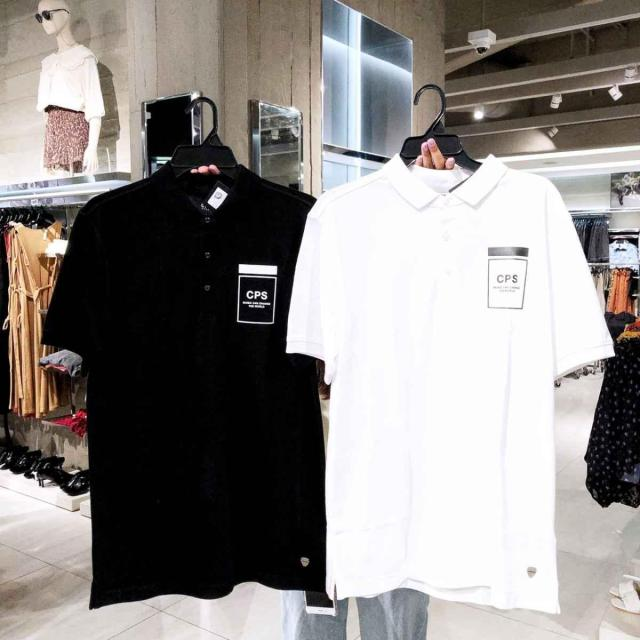Tshirt: (276, 166, 621, 617), (41, 158, 356, 611)
